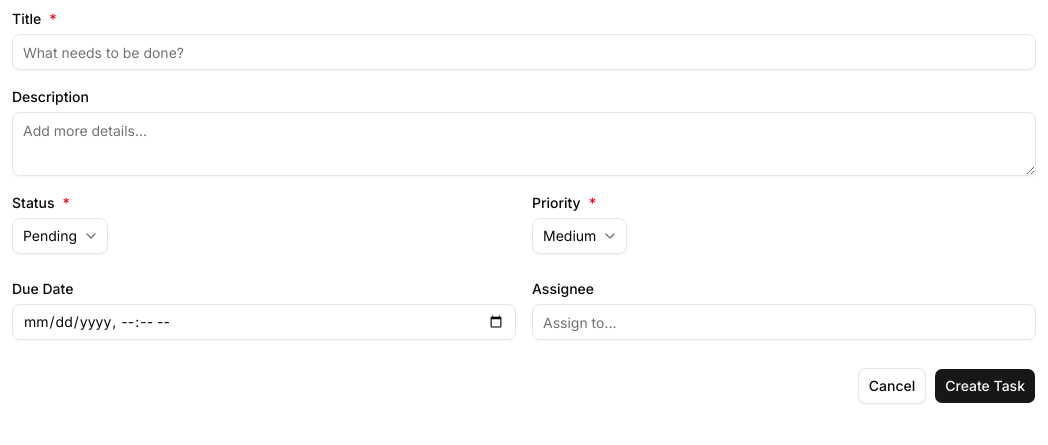
Test case: TaskForm — validation › shows validation error when title is empty on submit
Click the button "Create Task" at (985, 386), box [934, 368, 1036, 404]
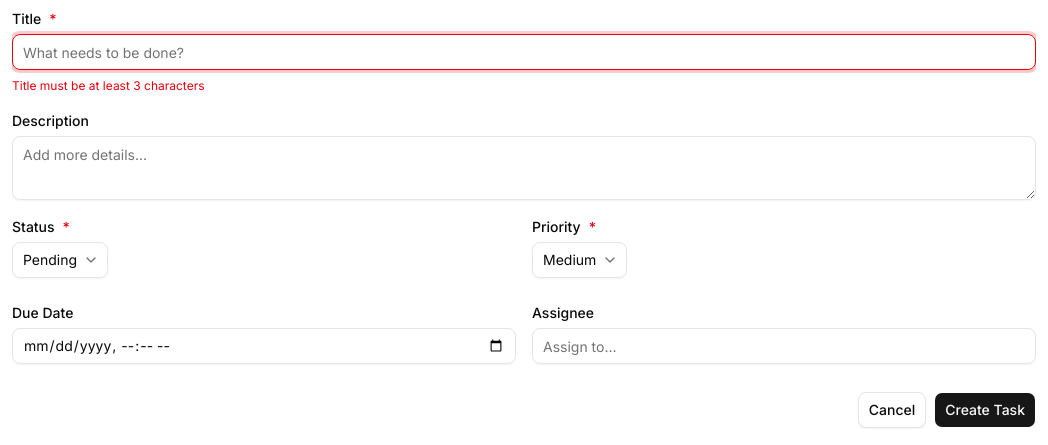
Expected: the text "Title must be at least 3 characters" is shown, [12, 78, 204, 93]
